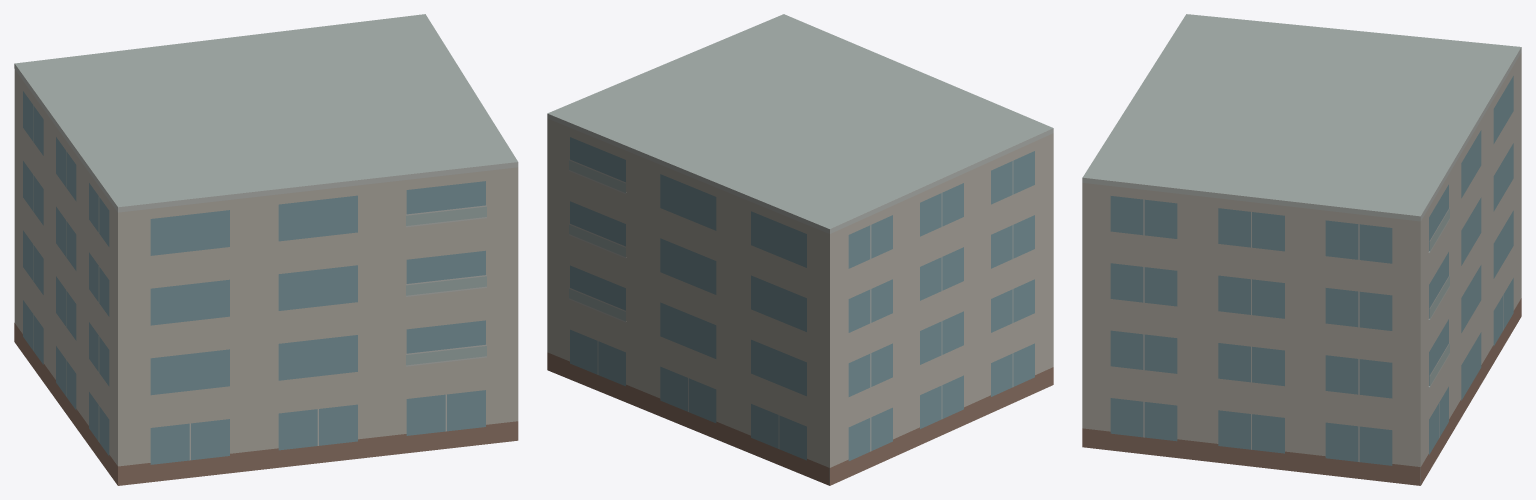
File: survey-upis-32686291.glb
3 renders of one model, left to right at view 1: azimuth 30°, elevation 25°; view 2: azimuth 150°, elevation 25°; view 3: azimuth 270°, elevation 25°, orthographic. The views are drawn at different scales.
Parts seen in each view (by area): view 1: survey-upis-32686291.tmp; view 2: survey-upis-32686291.tmp; view 3: survey-upis-32686291.tmp.
Part boxes in pixels (x1,y1,x2,y2): survey-upis-32686291.tmp: [14, 14, 518, 485]; survey-upis-32686291.tmp: [547, 14, 1053, 485]; survey-upis-32686291.tmp: [1082, 14, 1521, 485].
Bounding box in the file's own units: 20.62 × 12.8 × 18.91.
